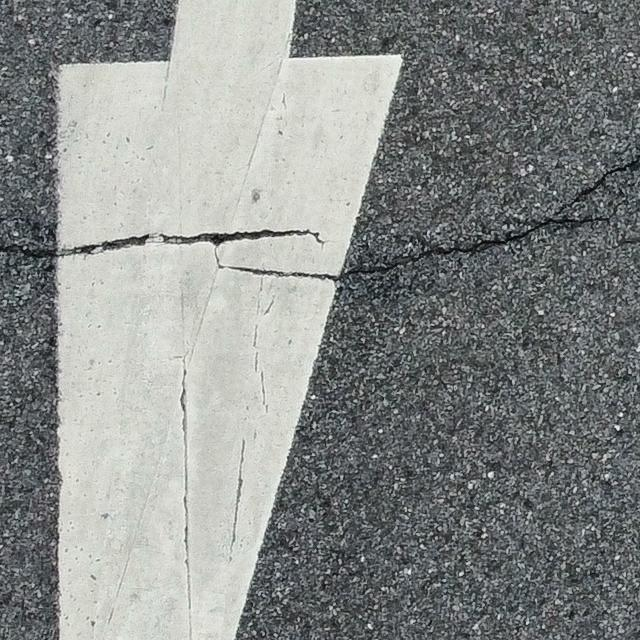TransverseCrack: (1, 155, 639, 283)
